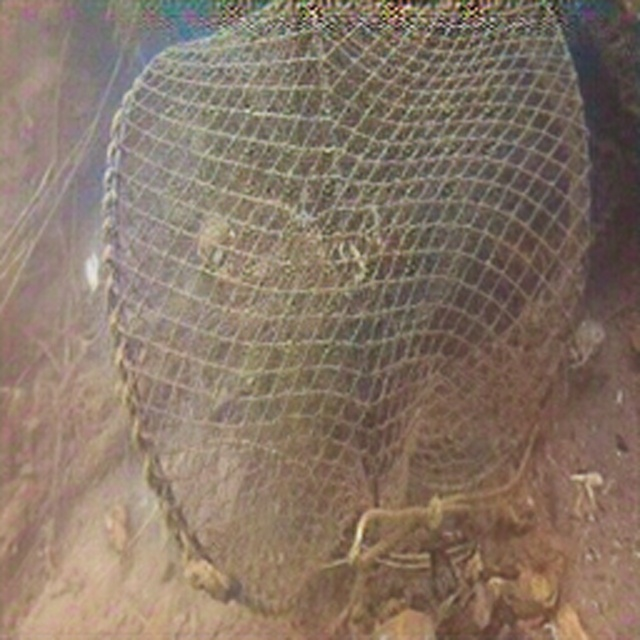mine: (99, 0, 591, 616)
